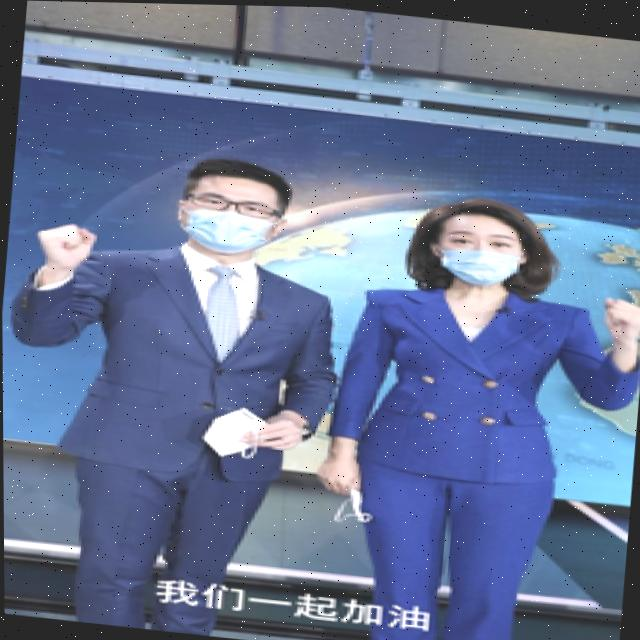Mask: (177, 201, 283, 255), (416, 239, 527, 283)
